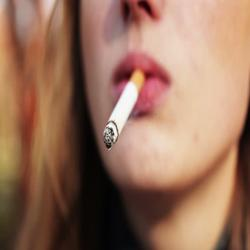smoking: (101, 49, 174, 153)
